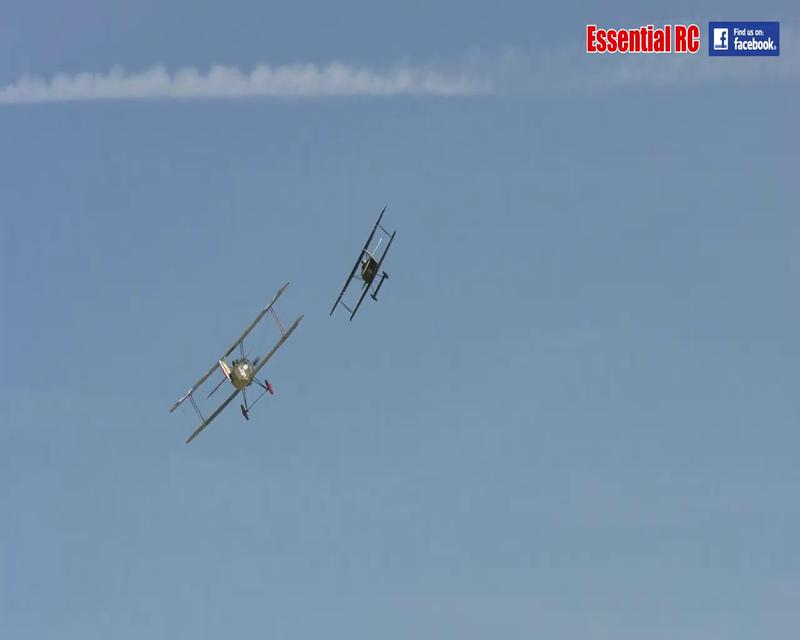UAV: (169, 282, 306, 443), (329, 202, 397, 323)
